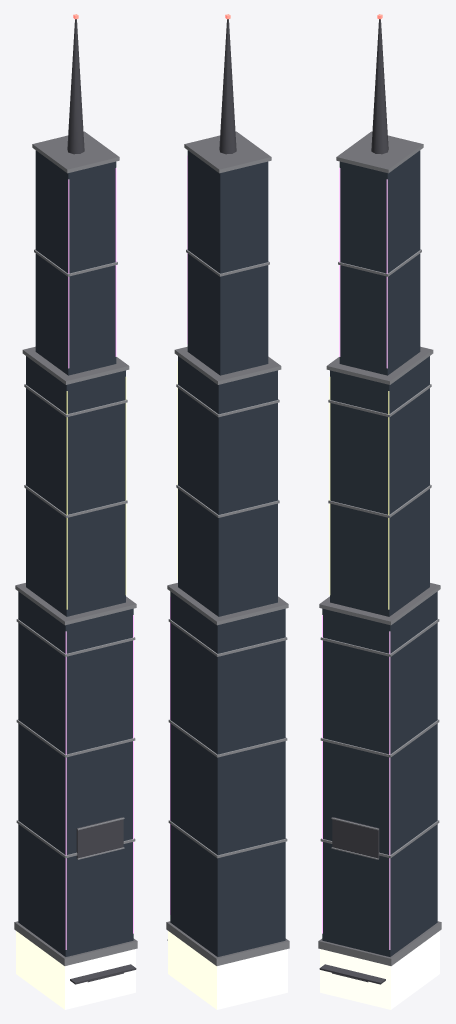
File: r1012_step.glb
The picture shows the model from 3 angles, left to right: view 1: azimuth 30°, elevation 25°; view 2: azimuth 210°, elevation 25°; view 3: azimuth 330°, elevation 25°; orthographic projection.
Parts seen in each view (by area): view 1: r1012_step; view 2: r1012_step; view 3: r1012_step.
Part boxes in pixels (box(x1,y1,x2,y2)): r1012_step: box(14, 14, 137, 1009); r1012_step: box(166, 14, 289, 1009); r1012_step: box(318, 14, 441, 1009).
Bounding box in the file's own units: 10.3 × 131 × 13.49.
